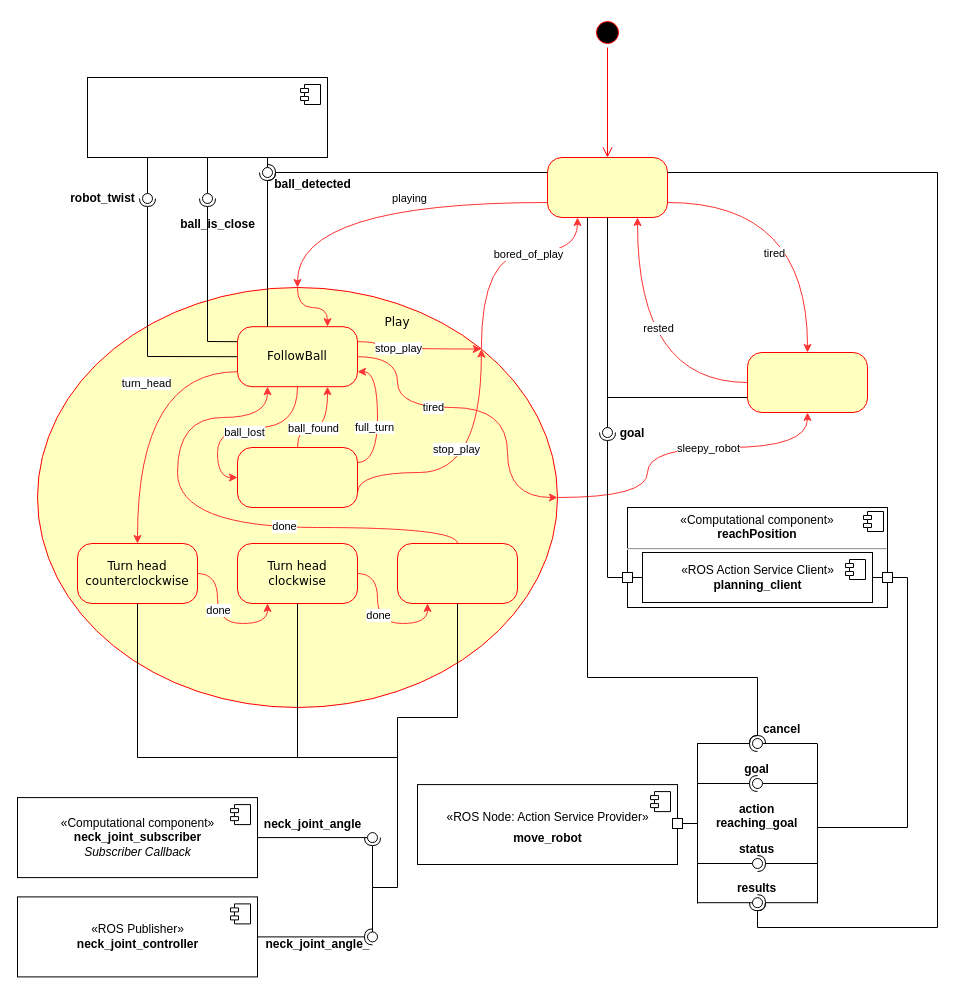
The diagram is 963 pixels wide and 995 high, and some of its shapes have lost their labels. The centre of each missing label's shape, as x and y in pixels:
Move: (607,187)
Rest: (807,382)
Set head straight: (457,573)
TurnRobot: (297,477)
«Computational component» imageReceived Subscriber Callback: (207,117)
